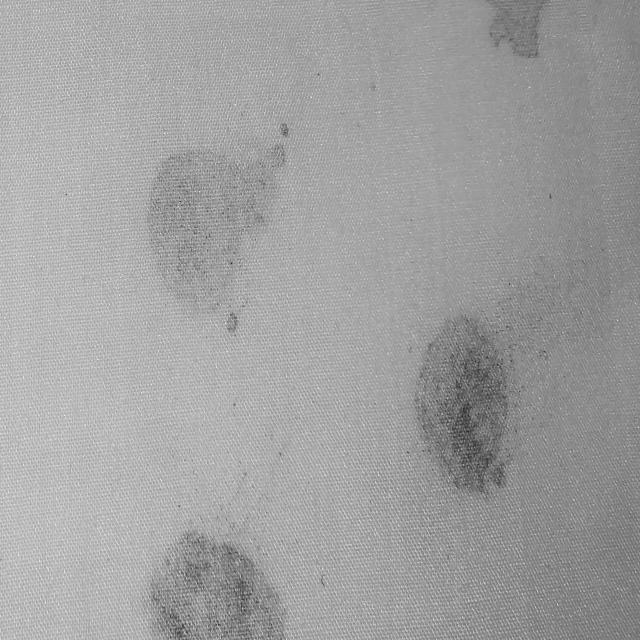Stain: (415, 282, 559, 493), (147, 141, 286, 310), (147, 532, 285, 640), (489, 0, 547, 56), (225, 310, 240, 334), (280, 121, 291, 136)
